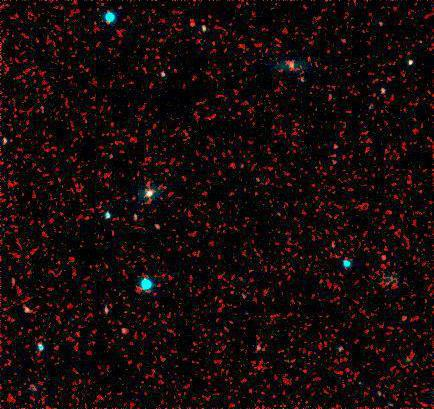star: (367, 247, 397, 277)
